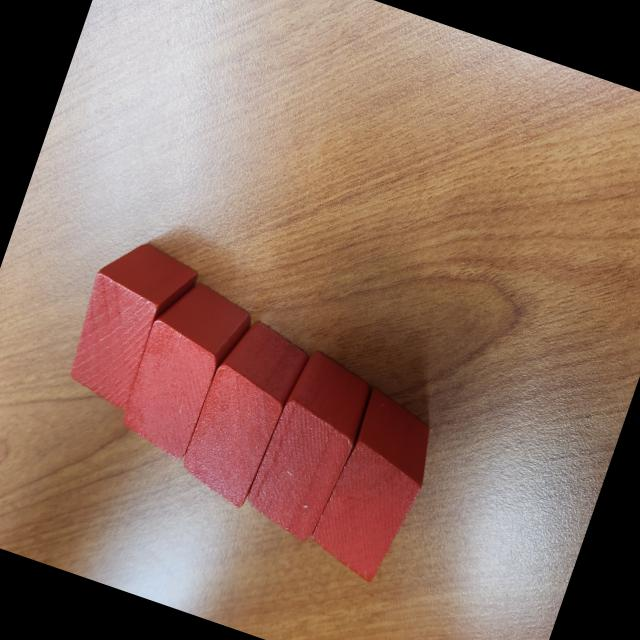red: (301, 384, 446, 592), (238, 343, 380, 548), (112, 272, 258, 470), (174, 311, 315, 514), (55, 230, 204, 420)
